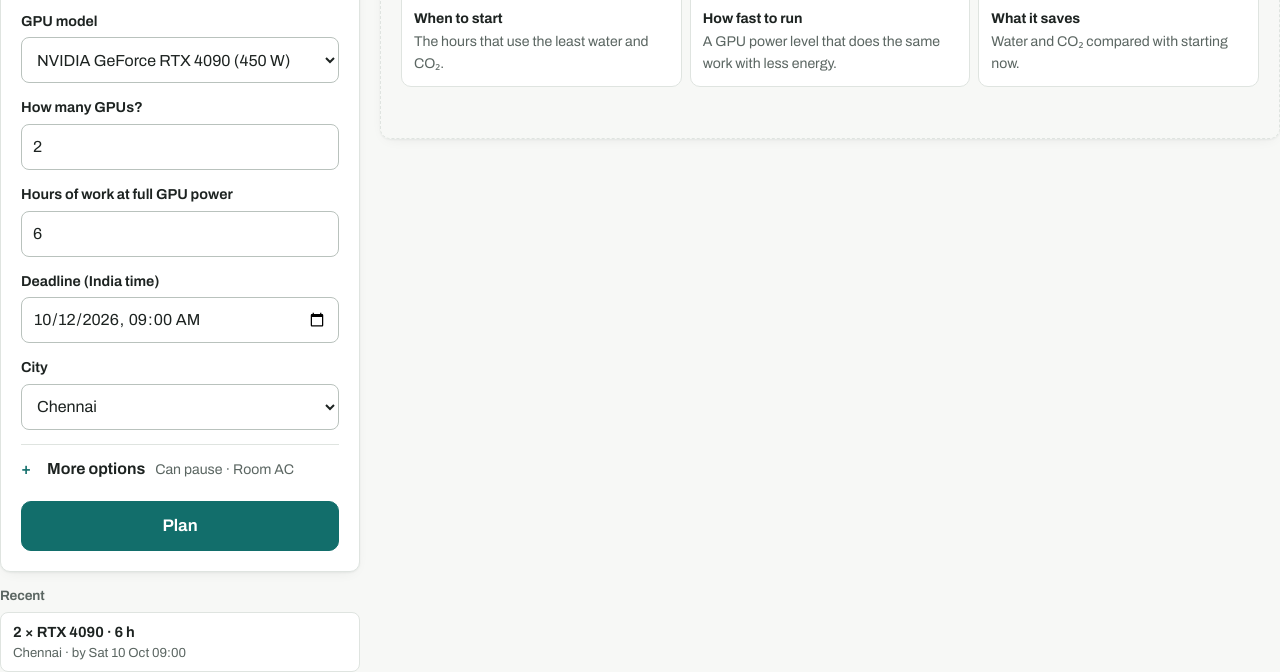
PlanPage with a plan › says the forecast is not live when its age is unknown
The width and height of the screenshot is (1280, 672).
(page scrolled)
Click the button "Plan". click: (180, 526)
box: [21,501,339,551]
(page scrolled)
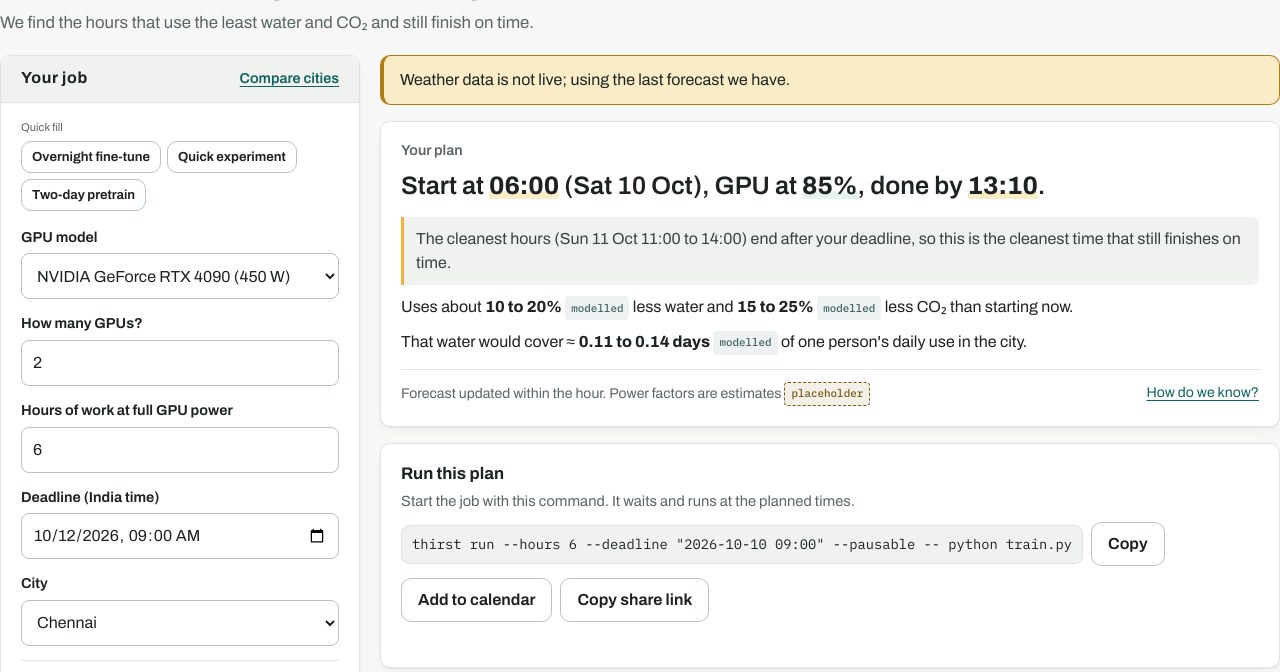
Expected: the element "Your plan" is shown, [380,121,1279,427]
Expected: the text "Weather data is not live; using the last forecast we have." is shown, [380,55,1279,105]
